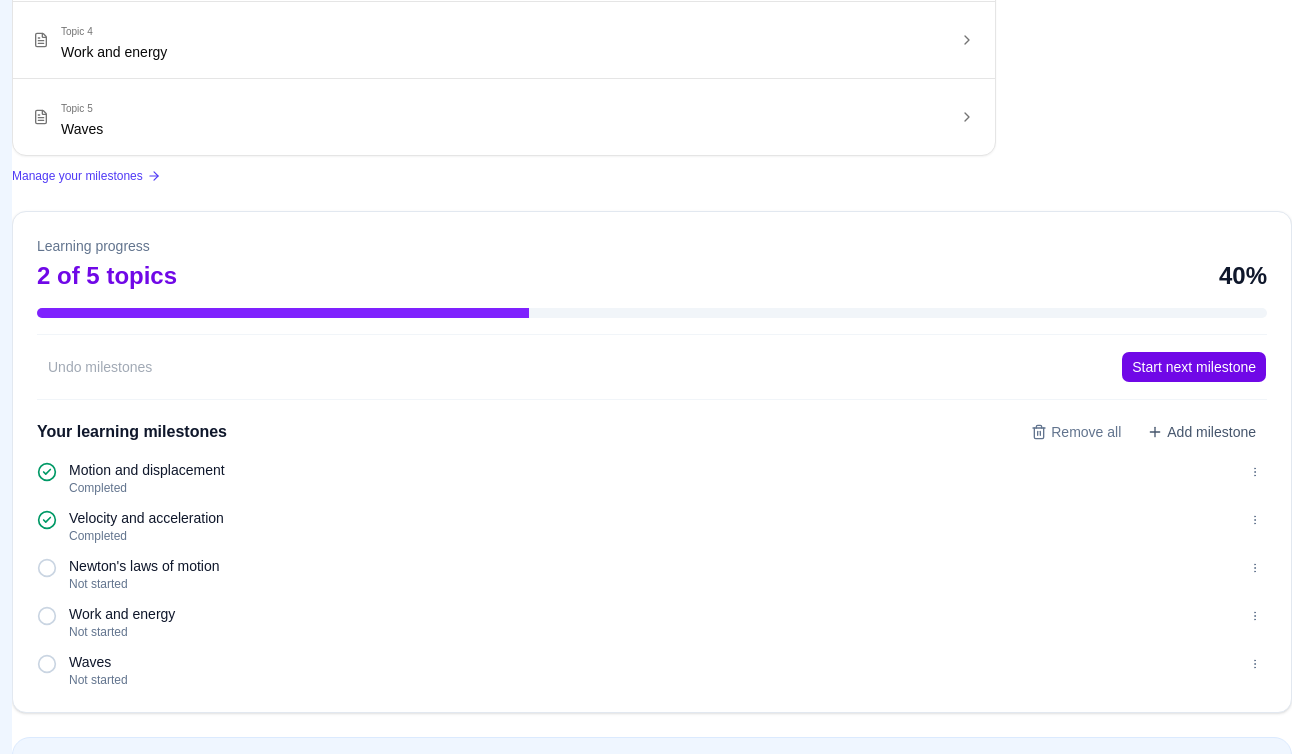
Test: SubjectDetailView › walks the milestone flow from start to completion
(page scrolled)
Expected: the text "2 of 5 topics" is shown, [37, 260, 177, 292]
Expected: the text "40%" is shown, [1219, 260, 1267, 292]
What coordinates should you click on to do the following:
click the button "Start next milestone"
I would click on:
 (1194, 367)
Its box is [1121, 351, 1267, 383].
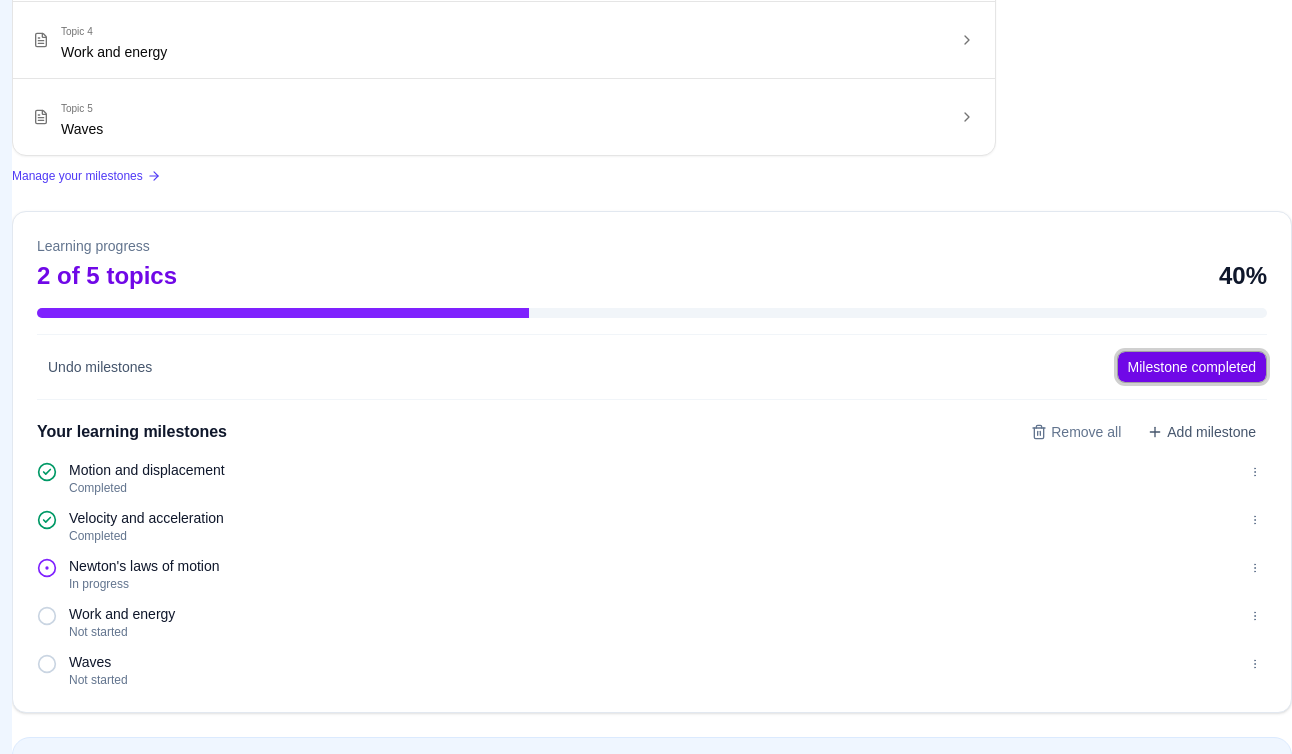
Result: the button "Milestone completed" is shown
What coordinates should you click on to do the following:
click the button "Milestone completed"
I would click on:
 (1192, 367)
Its box is [1117, 351, 1267, 383].
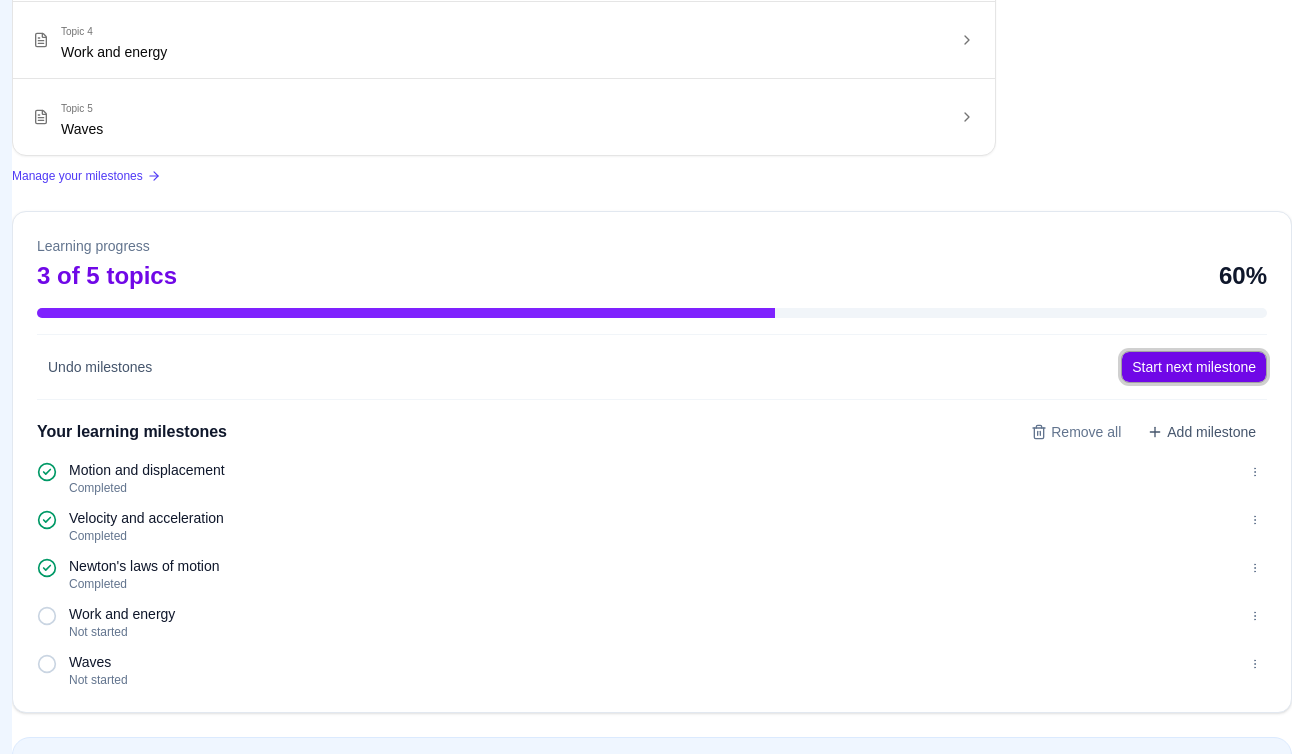
Result: the text "3 of 5 topics" is shown at [37, 260, 177, 292]
Result: the button "Start next milestone" is shown at [1121, 351, 1267, 383]
What coordinates should you click on to do the following:
click the button "Undo milestones"
I would click on:
 (100, 367)
Its box is [37, 351, 163, 383].
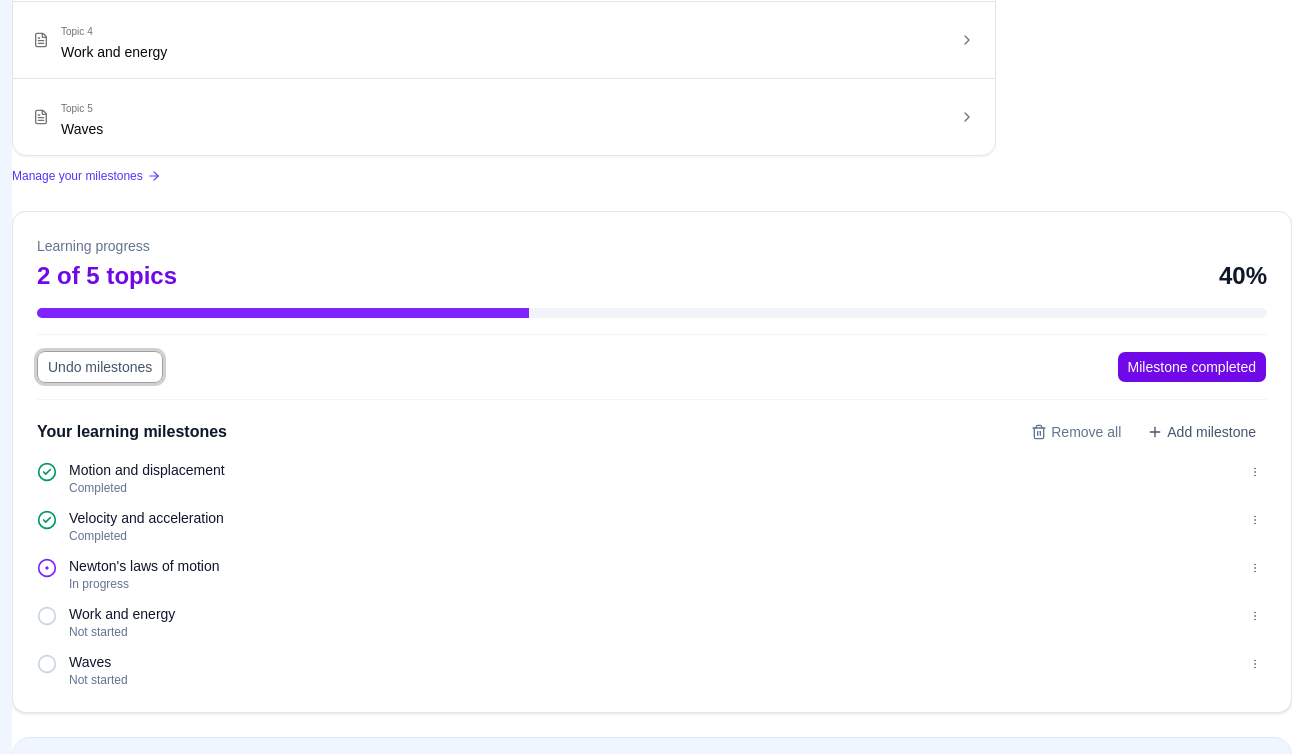
Result: the text "2 of 5 topics" is shown at [37, 260, 177, 292]
